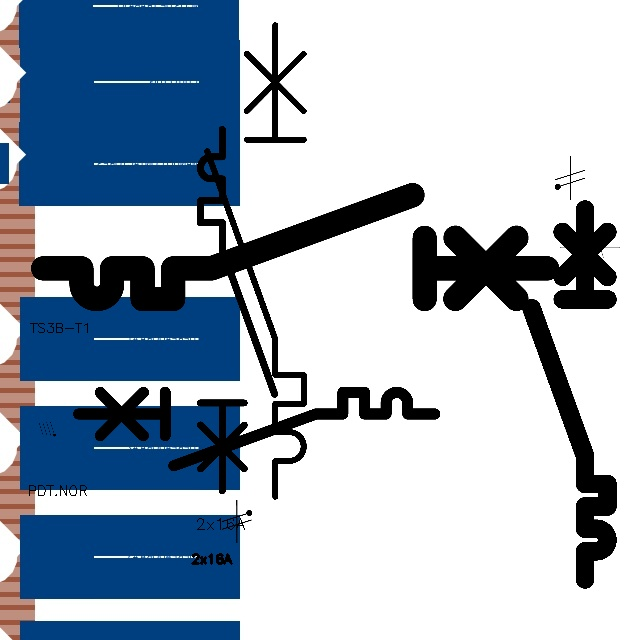interruptor_termomagnetico: (30, 182, 560, 312), (195, 13, 316, 509), (522, 200, 617, 589), (191, 120, 284, 500), (69, 383, 444, 474)
